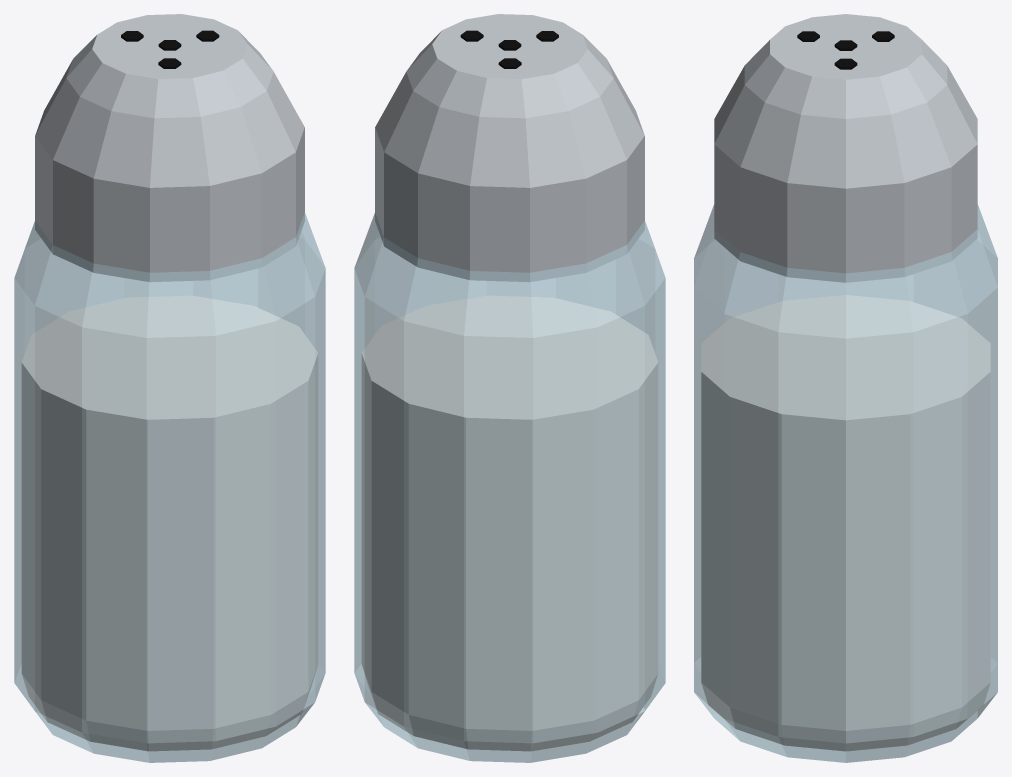
The model's file is salt_shaker.glb.
The picture shows the model from 3 angles, left to right: view 1: azimuth 30°, elevation 25°; view 2: azimuth 150°, elevation 25°; view 3: azimuth 270°, elevation 25°; orthographic projection.
Parts seen in each view (by area): view 1: SaltShaker; view 2: SaltShaker; view 3: SaltShaker.
Part boxes in pixels (bbox=[...]): SaltShaker: bbox=[14, 14, 325, 762]; SaltShaker: bbox=[354, 14, 665, 762]; SaltShaker: bbox=[694, 14, 997, 762].
Bounding box in the file's own units: 3 × 7.03 × 2.92.
